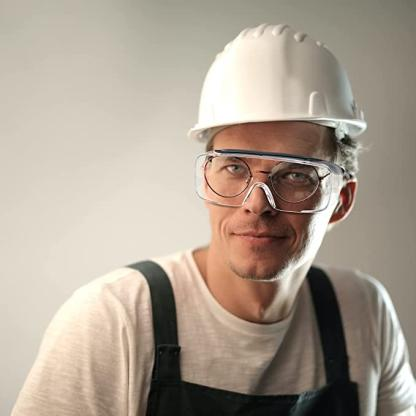oculos: (195, 150, 340, 215)
